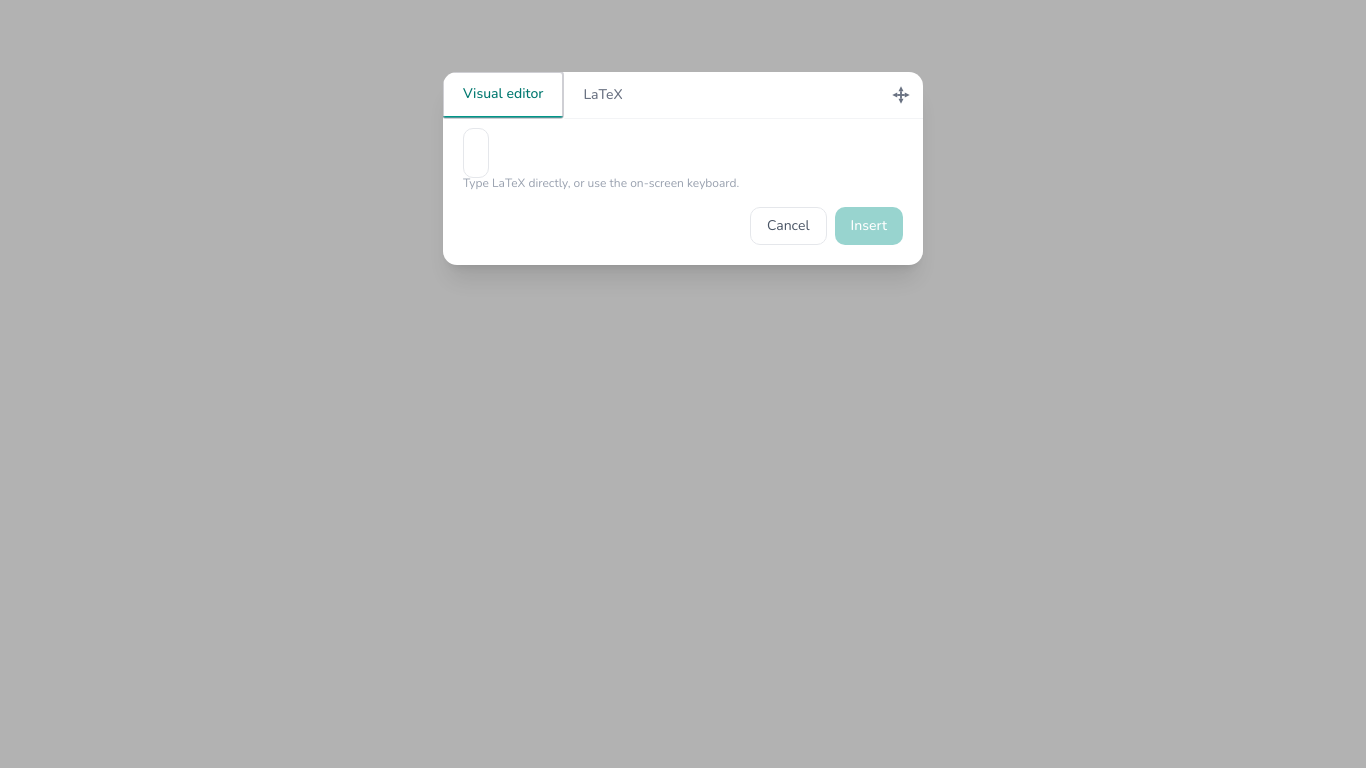
Test case: MathInputModal › switching to the LaTeX tab shows the textarea and preview
Click the tab "LaTeX". click: coordinates (603, 95)
box: left=563, top=72, right=643, bottom=118
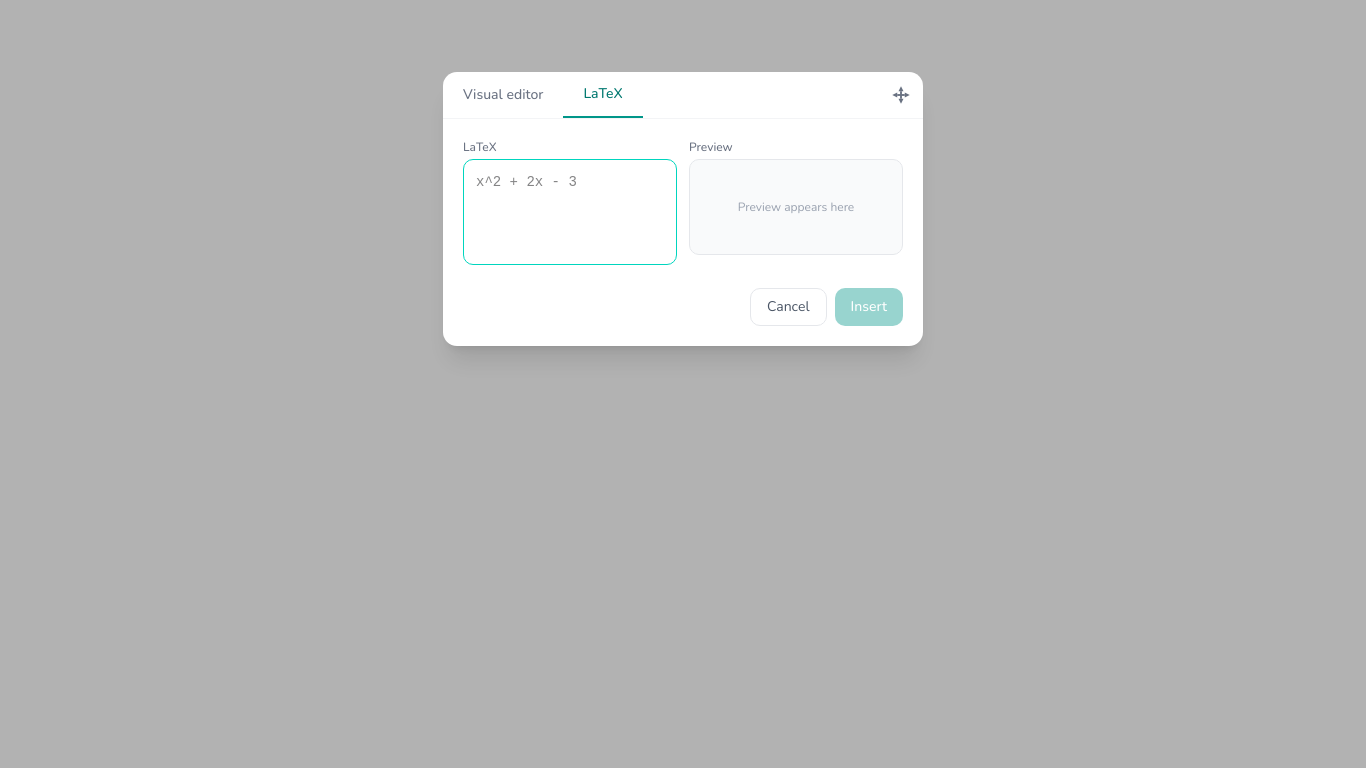
Expected: the text box with placeholder "x^2 + 2x - 3" is shown, left=463, top=159, right=677, bottom=265
Expected: the text "Preview appears here" is shown, left=738, top=199, right=854, bottom=215
